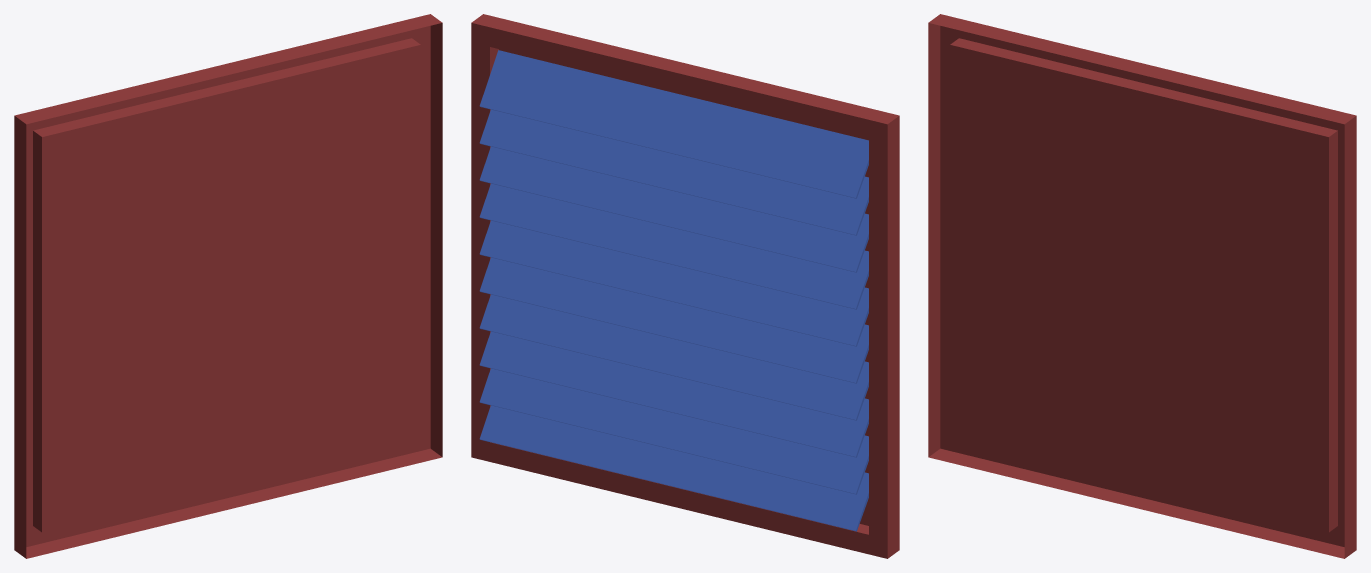
File: grille_ventilation.FBX
The picture shows the model from 3 angles, left to right: view 1: azimuth 30°, elevation 25°; view 2: azimuth 150°, elevation 25°; view 3: azimuth 330°, elevation 25°; orthographic projection.
Visible parts, largest first — view 1: Box001; view 2: Box001; view 3: Box001.
Part boxes in pixels (bbox=[...]): Box001: bbox=[14, 14, 442, 558]; Box001: bbox=[471, 14, 899, 558]; Box001: bbox=[928, 14, 1356, 558].
Bounding box in the file's own units: 40 × 39.91 × 4.04.
